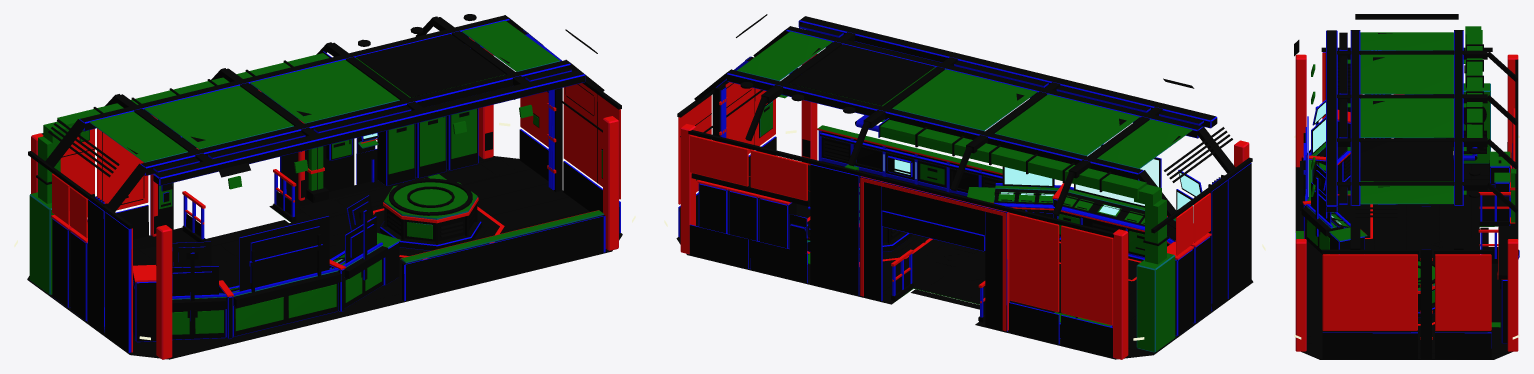
File: SM_CommandCenter_Interior_LOD1.fbx
3 renders of one model, left to right at view 1: azimuth 30°, elevation 25°; view 2: azimuth 150°, elevation 25°; view 3: azimuth 270°, elevation 25°, orthographic. The views are drawn at different scales.
Visible parts, largest first — view 1: SM_CommandCenter_Interior_LOD1; view 2: SM_CommandCenter_Interior_LOD1; view 3: SM_CommandCenter_Interior_LOD1.
Boxes of the visible parts, x1=… form: SM_CommandCenter_Interior_LOD1: x1=14, y1=14, x2=635, y2=359; SM_CommandCenter_Interior_LOD1: x1=664, y1=14, x2=1265, y2=359; SM_CommandCenter_Interior_LOD1: x1=1294, y1=14, x2=1519, y2=359.
Size of the model in its own units: 14.99 by 5.13 by 6.99.
